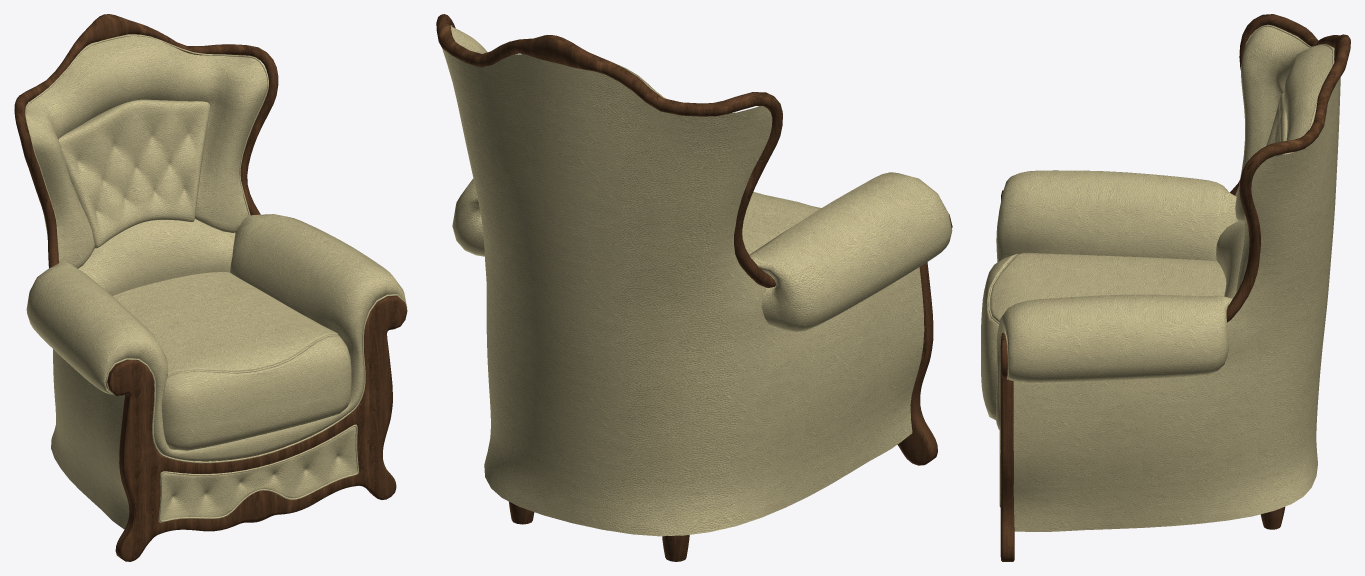
The model's file is Patriciya_12_Glb.glb.
3 views of the same model, side by side, from view 1: azimuth 30°, elevation 25°; view 2: azimuth 150°, elevation 25°; view 3: azimuth 270°, elevation 25° (orthographic). The views are drawn at different scales.
Visible parts, largest first — view 1: patriciya_Obj, Box002, Cylinder001, Cylinder004, Plane004, Cylinder002, Plane006, Line001, Shape002, Shape003, Shape001; view 2: patriciya_Obj, Line001, Cylinder004, Box002, Cylinder005; view 3: patriciya_Obj, Box002, Cylinder001, Line001, Cylinder004, Cylinder002, Plane004.
Boxes of the visible parts, x1,y1,x2,y2 form: patriciya_Obj: (26, 213, 407, 529); Box002: (112, 272, 351, 450); Cylinder001: (26, 34, 267, 268); Cylinder004: (105, 296, 407, 561); Plane004: (58, 99, 209, 248); Cylinder002: (78, 219, 235, 295); Plane006: (158, 427, 358, 522); Line001: (14, 14, 278, 267); Shape002: (159, 424, 358, 522); Shape003: (25, 34, 268, 261); Shape001: (105, 294, 403, 463); patriciya_Obj: (442, 48, 952, 536); Line001: (436, 14, 782, 287); Cylinder004: (897, 214, 952, 465); Box002: (742, 192, 821, 286); Cylinder005: (508, 501, 689, 561); patriciya_Obj: (996, 77, 1340, 531); Box002: (981, 252, 1226, 420); Cylinder001: (1235, 26, 1334, 293); Line001: (1226, 14, 1350, 322); Cylinder004: (1000, 190, 1014, 561); Cylinder002: (1216, 221, 1244, 298); Plane004: (1266, 93, 1293, 156).
Size of the model in its own units: 0.8703 by 1.09 by 0.8.
Materials: 13 (13 with a texture image).
